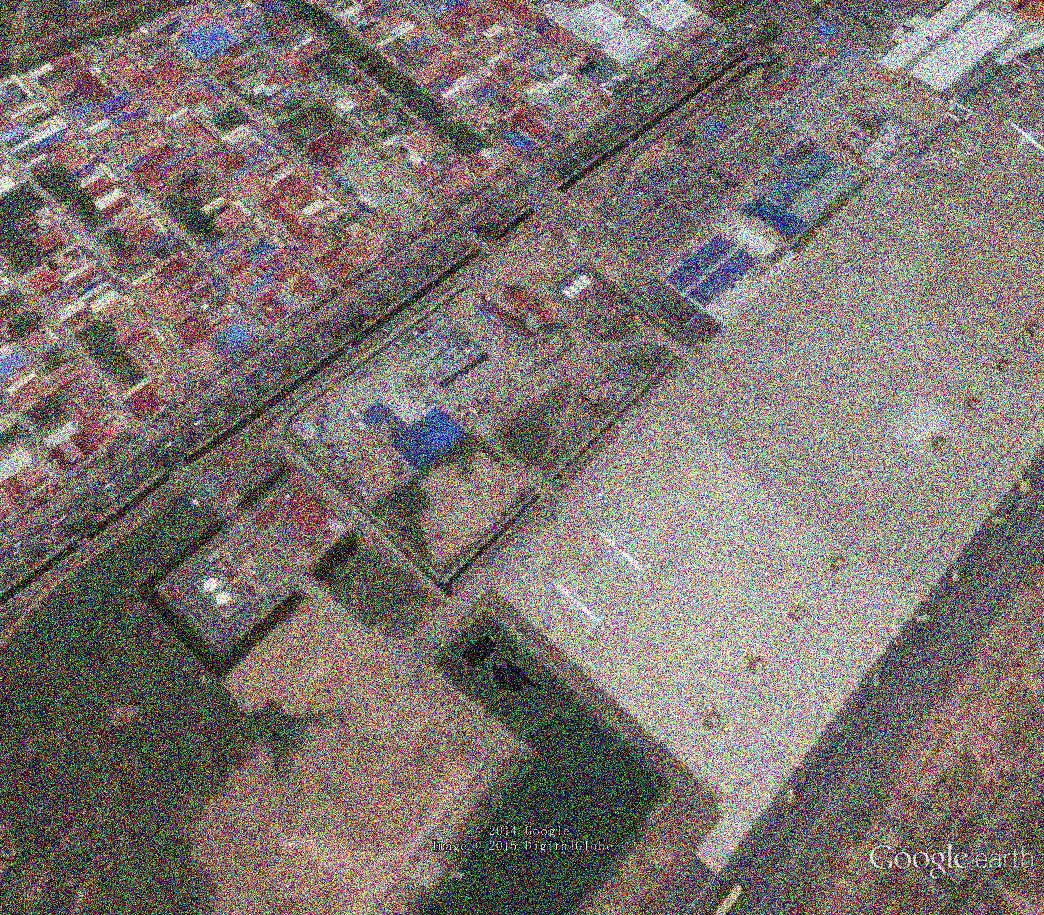aircraft: (549, 576, 613, 634), (597, 529, 654, 586), (1006, 115, 1044, 159)
